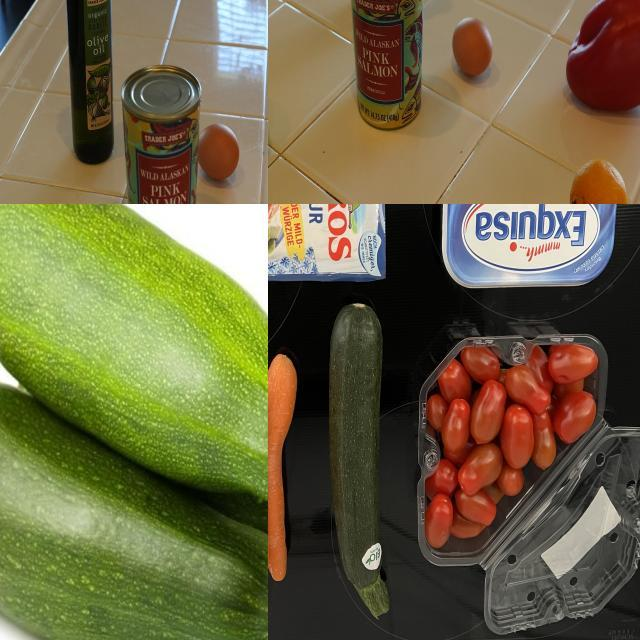bell_pepper: (556, 1, 640, 118)
carrot: (269, 346, 309, 599)
egg: (200, 118, 244, 188), (451, 18, 499, 80)
tomato: (418, 312, 640, 592)
zucchini: (1, 205, 269, 518), (326, 295, 406, 630)
